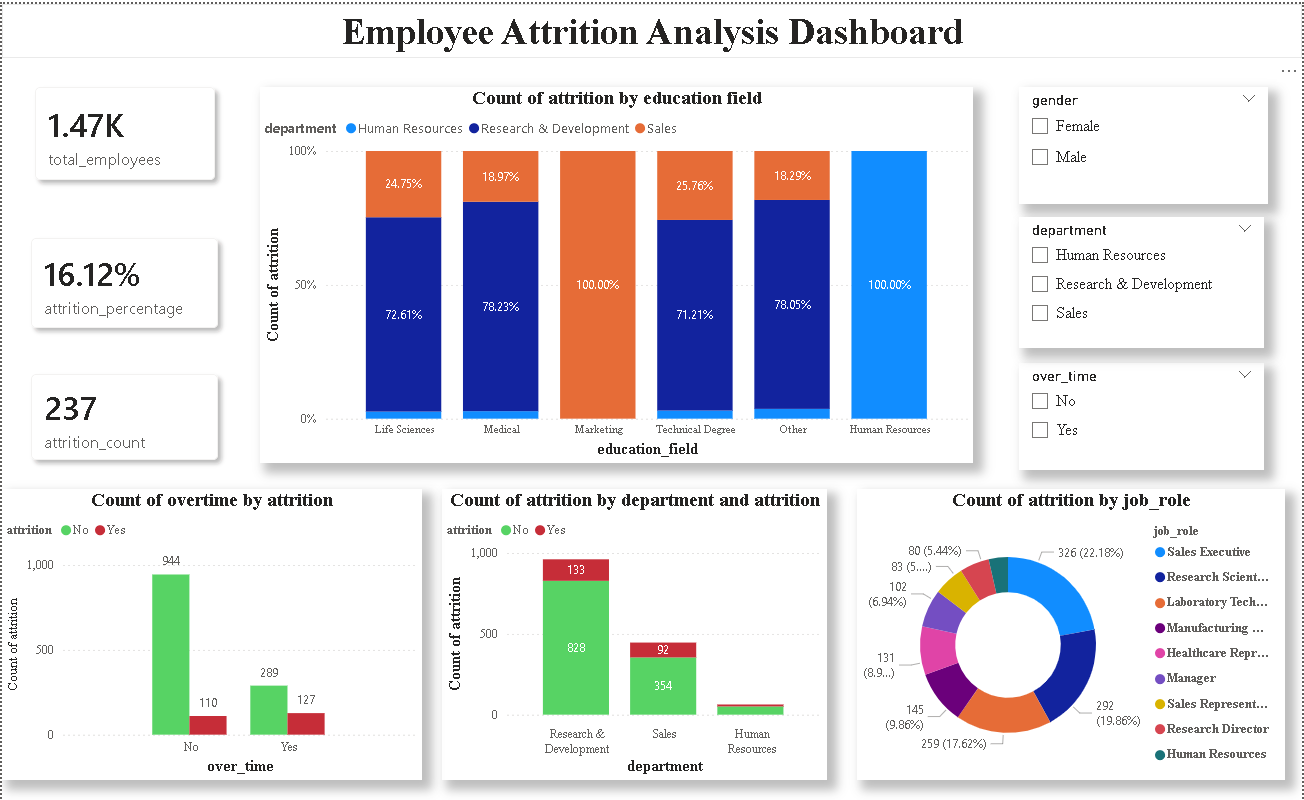

The page's visual inventory and layout, read from the dashboard file:
{"tool":"powerbi","page":{"name":"P","canvas":[1300,900],"ordinal":0},"visuals":[{"type":"cardVisual","fields":{"Data":["public hr_ibm.total_employees"]},"box":[4,54,238,151],"z":0},{"type":"slicer","fields":{"Values":["public hr_ibm.gender"]},"box":[1017,83,249,117],"z":2},{"type":"slicer","fields":{"Values":["public hr_ibm.over_time"]},"box":[1017,359,245,107],"z":3},{"type":"slicer","fields":{"Values":["public hr_ibm.department"]},"box":[1017,213,245,131],"z":4},{"type":"cardVisual","fields":{"Data":["public hr_ibm.attrition_count"]},"box":[0,341,245,144],"z":6},{"type":"cardVisual","fields":{"Data":["public hr_ibm.attrition_percentage"]},"box":[0,205,245,148],"z":7},{"type":"donutChart","fields":{"Y":["CountNonNull(public hr_ibm.attrition)"],"Category":["public hr_ibm.job_role"]},"box":[855,485,428,291],"z":8},{"type":"columnChart","fields":{"Series":["public hr_ibm.attrition"],"Category":["public hr_ibm.department"],"Y":["CountNonNull(public hr_ibm.attrition)"]},"box":[440,485,385,291],"z":9},{"type":"hundredPercentStackedColumnChart","title":"Count of attrition by education field","fields":{"Category":["public hr_ibm.education_feild"],"Y":["CountNonNull(public hr_ibm.attrition)"],"Series":["public hr_ibm.department"]},"box":[258,83,713,376],"z":10},{"type":"clusteredColumnChart","title":"Count of overtime by attrition","fields":{"Category":["public hr_ibm.over_time"],"Y":["CountNonNull(public hr_ibm.attrition)"],"Series":["public hr_ibm.attrition"]},"box":[0,485,420,291],"z":11},{"type":"textbox","box":[0,0,1300,54],"z":12}]}

Visuals, with their boxes on the page's 1300x900 design canvas (x1, y1, x2, y2). These are canvas units, not pixel positions in the 1304x800 screenshot, which may show the page scaled, cropped or inside an application window:
cardVisual - public hr_ibm.total_employees: {"x1": 4, "y1": 54, "x2": 242, "y2": 205}
slicer - public hr_ibm.gender: {"x1": 1017, "y1": 83, "x2": 1266, "y2": 200}
slicer - public hr_ibm.over_time: {"x1": 1017, "y1": 359, "x2": 1262, "y2": 466}
slicer - public hr_ibm.department: {"x1": 1017, "y1": 213, "x2": 1262, "y2": 344}
cardVisual - public hr_ibm.attrition_count: {"x1": 0, "y1": 341, "x2": 245, "y2": 485}
cardVisual - public hr_ibm.attrition_percentage: {"x1": 0, "y1": 205, "x2": 245, "y2": 353}
donutChart - CountNonNull(public hr_ibm.attrition) x public hr_ibm.job_role: {"x1": 855, "y1": 485, "x2": 1283, "y2": 776}
columnChart - public hr_ibm.attrition x public hr_ibm.department: {"x1": 440, "y1": 485, "x2": 825, "y2": 776}
"Count of attrition by education field" hundredPercentStackedColumnChart: {"x1": 258, "y1": 83, "x2": 971, "y2": 459}
"Count of overtime by attrition" clusteredColumnChart: {"x1": 0, "y1": 485, "x2": 420, "y2": 776}
textbox: {"x1": 0, "y1": 0, "x2": 1300, "y2": 54}
